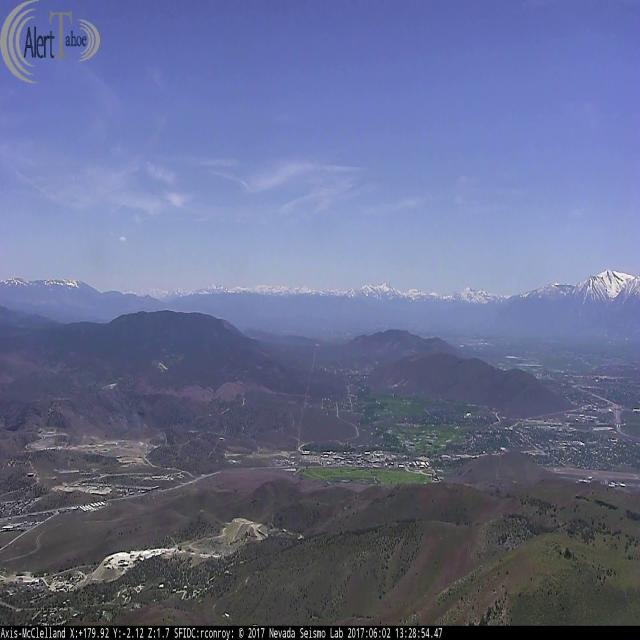smoke: (96, 370, 145, 436)
